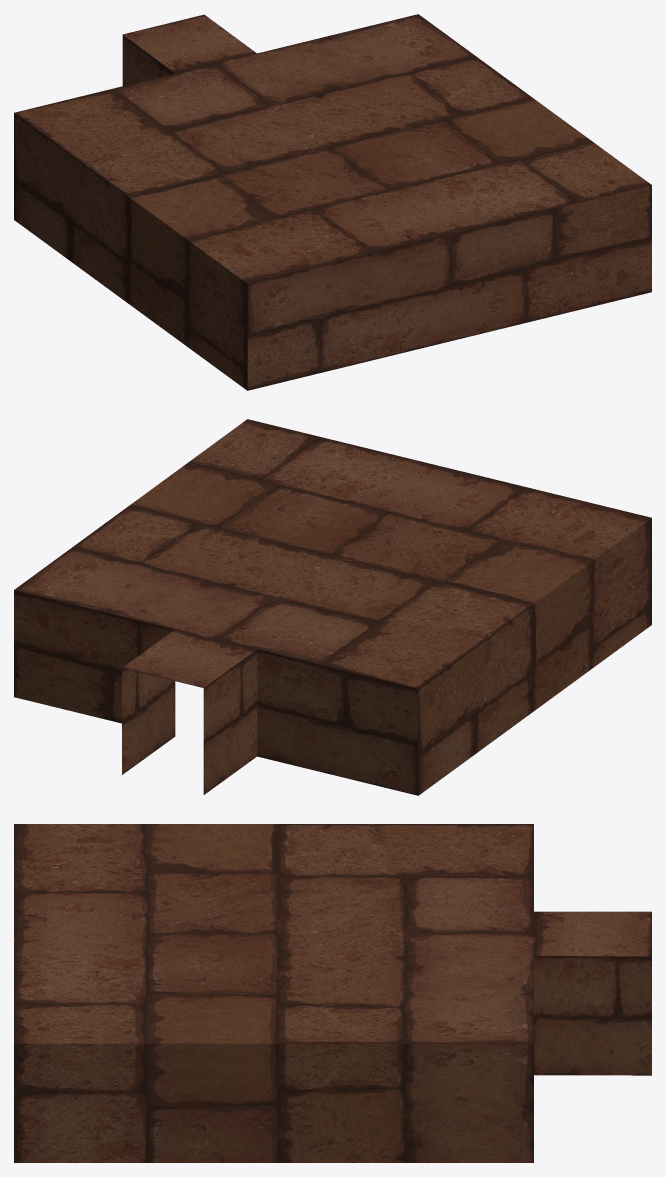
File: Floor_Entry_Plateform_1x1.fbx
3 renders of one model, top to bottom at view 1: azimuth 30°, elevation 25°; view 2: azimuth 150°, elevation 25°; view 3: azimuth 270°, elevation 25°, orthographic. The views are drawn at different scales.
Visible parts, largest first — view 1: Floor_Entry_1x006; view 2: Floor_Entry_1x006; view 3: Floor_Entry_1x006.
Part boxes in pixels (x1=…): Floor_Entry_1x006: x1=14, y1=14, x2=651, y2=390; Floor_Entry_1x006: x1=14, y1=419, x2=651, y2=795; Floor_Entry_1x006: x1=14, y1=824, x2=651, y2=1162.
Size of the model in its own units: 116 by 29.47 by 143.
